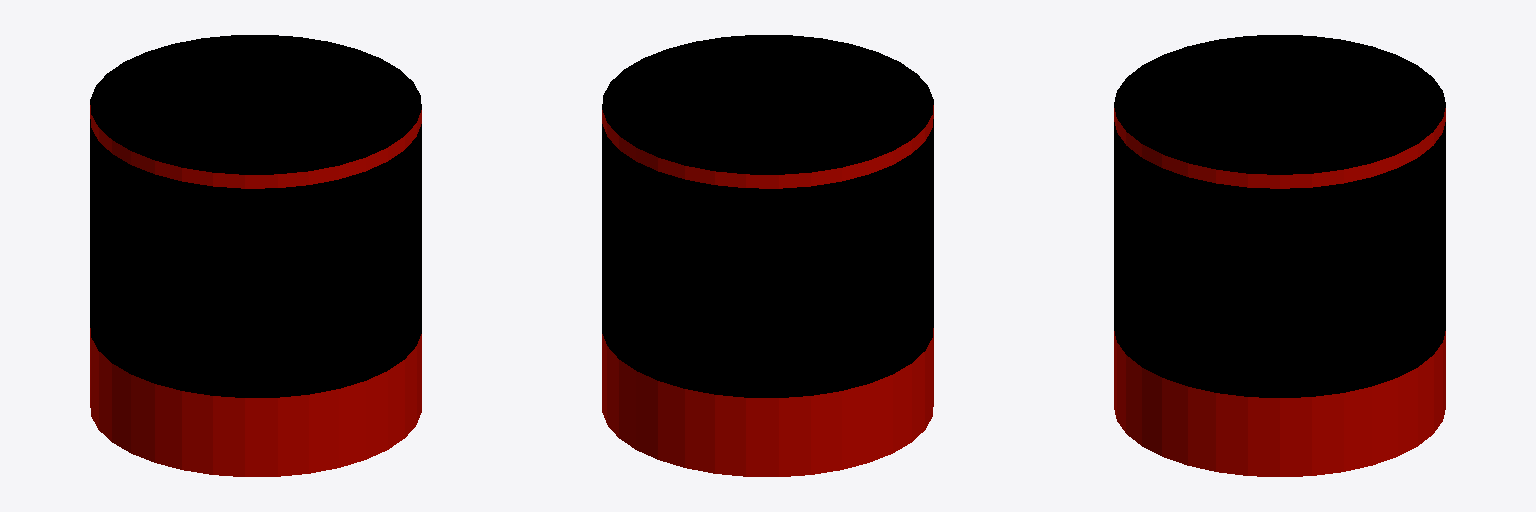
The model's file is enemy-pedastool.obj.
3 views of the same model, side by side, from view 1: azimuth 30°, elevation 25°; view 2: azimuth 150°, elevation 25°; view 3: azimuth 270°, elevation 25° (orthographic).
Visible parts, largest first — view 1: Cylinder.001_Cylinder; view 2: Cylinder.001_Cylinder; view 3: Cylinder.001_Cylinder.
Part boxes in pixels (x1,y1,x2,y2): Cylinder.001_Cylinder: (90, 35, 421, 476); Cylinder.001_Cylinder: (602, 35, 933, 476); Cylinder.001_Cylinder: (1114, 35, 1445, 476).
Bounding box in the file's own units: 2.39 × 2.4 × 2.39.